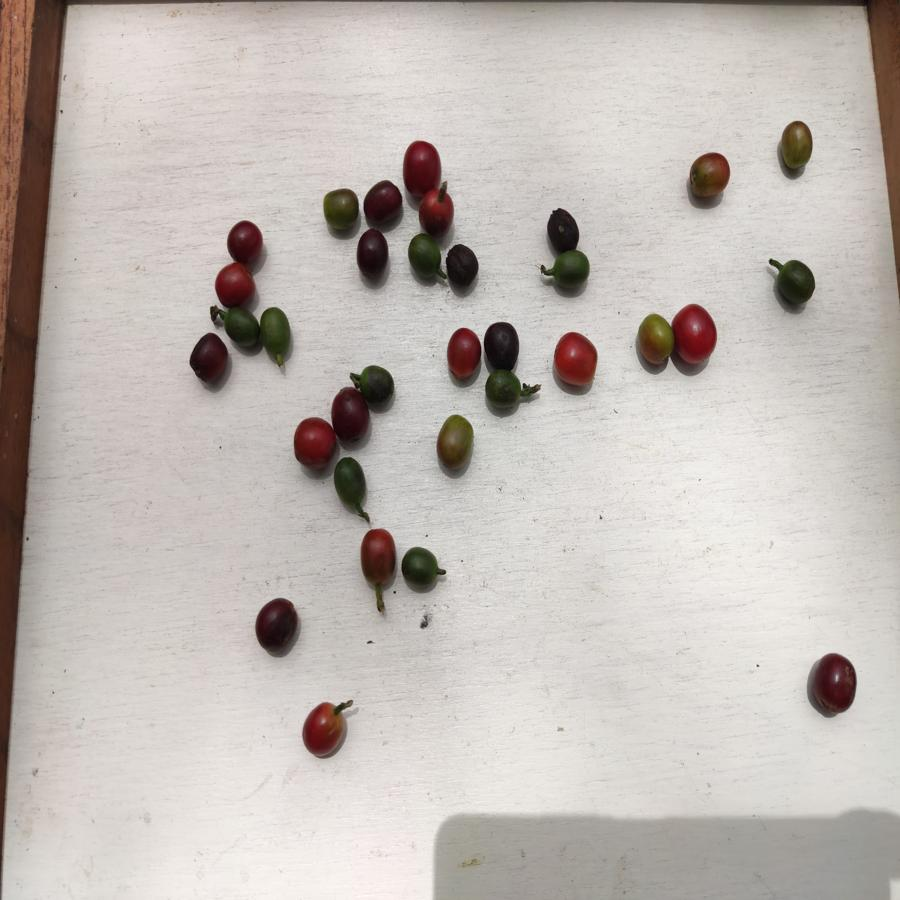Inmaduro: (776, 260, 820, 306), (355, 362, 399, 407), (221, 308, 264, 353), (333, 458, 369, 509), (259, 308, 295, 357), (401, 548, 441, 591), (550, 252, 592, 291), (407, 233, 441, 278), (485, 371, 524, 409)
Maduro: (673, 303, 719, 368), (552, 331, 600, 387), (358, 526, 398, 589), (301, 701, 346, 756), (403, 136, 443, 197), (292, 417, 336, 471), (446, 325, 480, 382), (212, 264, 257, 303), (420, 185, 457, 222)
Pinton: (686, 151, 733, 202), (436, 414, 477, 471), (636, 311, 675, 368), (778, 120, 816, 175), (322, 188, 359, 231)
Sobremaduro: (813, 648, 860, 714), (251, 597, 303, 653), (332, 388, 369, 446), (190, 333, 229, 387), (363, 178, 402, 226), (357, 227, 390, 283), (545, 206, 585, 252), (225, 219, 266, 263), (484, 321, 521, 368), (445, 242, 481, 288)
